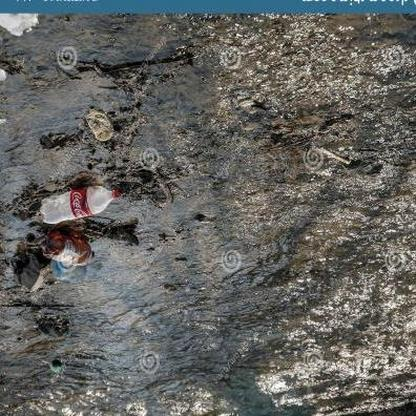plastic bottle: (38, 186, 121, 223), (40, 232, 96, 264)
